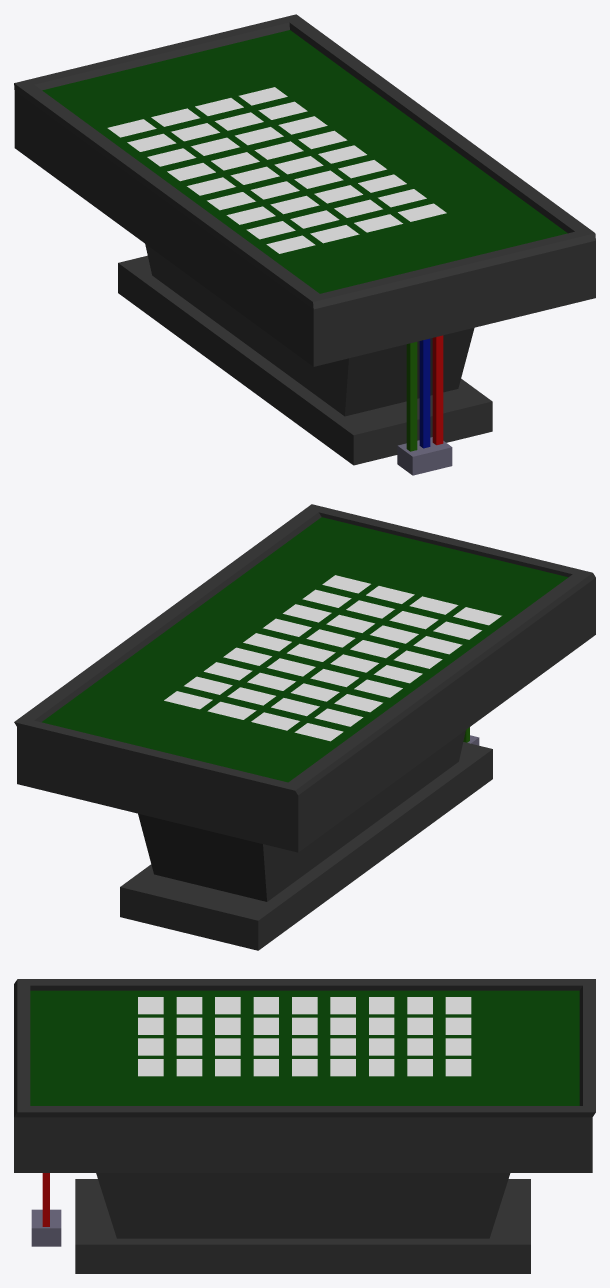
The model's file is PokerTable.fbx.
The picture shows the model from 3 angles, top to bottom: view 1: azimuth 30°, elevation 25°; view 2: azimuth 150°, elevation 25°; view 3: azimuth 270°, elevation 25°; orthographic projection. The views are drawn at different scales.
Parts seen in each view (by area): view 1: Plane; view 2: Plane; view 3: Plane.
Boxes of the visible parts, x1,y1,x2,y2 form: Plane: [14, 14, 595, 475]; Plane: [14, 504, 595, 950]; Plane: [14, 979, 595, 1273].
Size of the model in its own units: 426 by 294 by 783.
